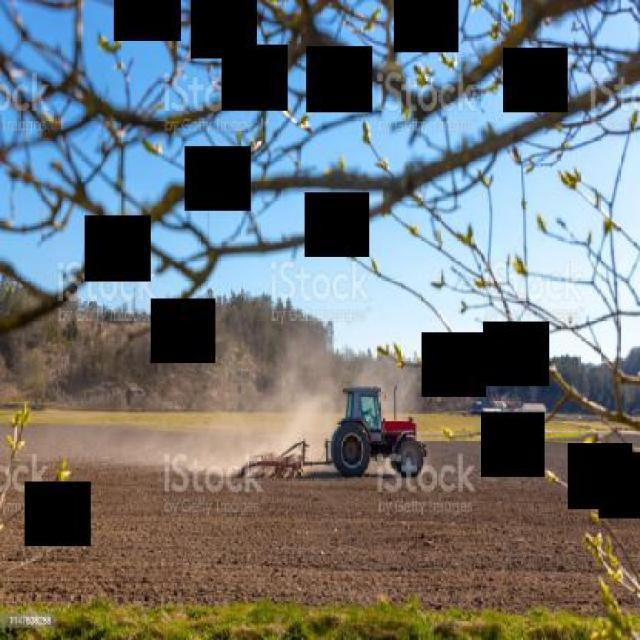Tratores - v5 YOLO V8L 2024-11-13: (323, 354, 434, 526)
